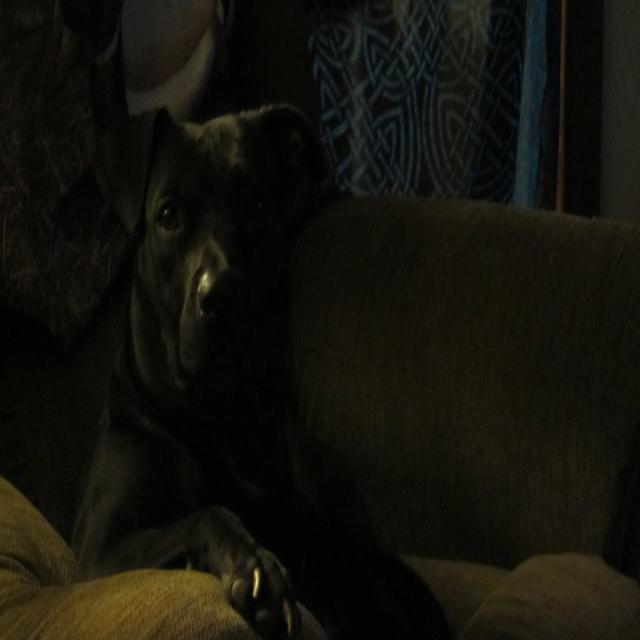Dog: (62, 61, 562, 640)
